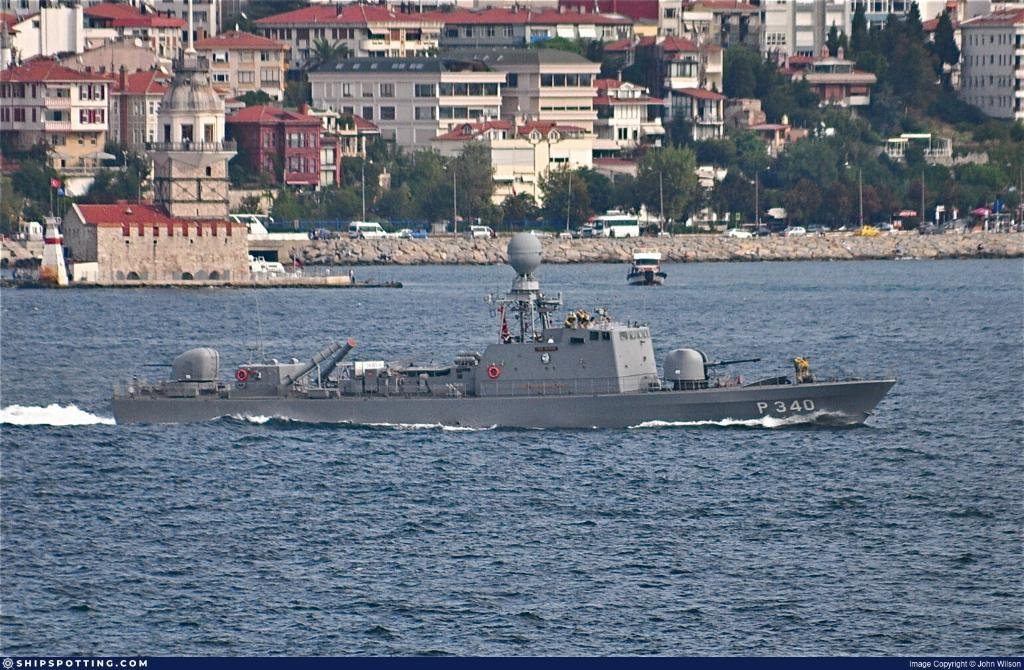Warship: (112, 230, 902, 435)
